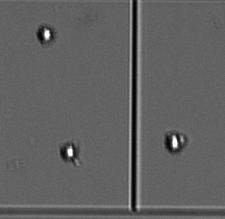Living Cell: (162, 129, 189, 153), (58, 139, 82, 164), (35, 20, 56, 47)
